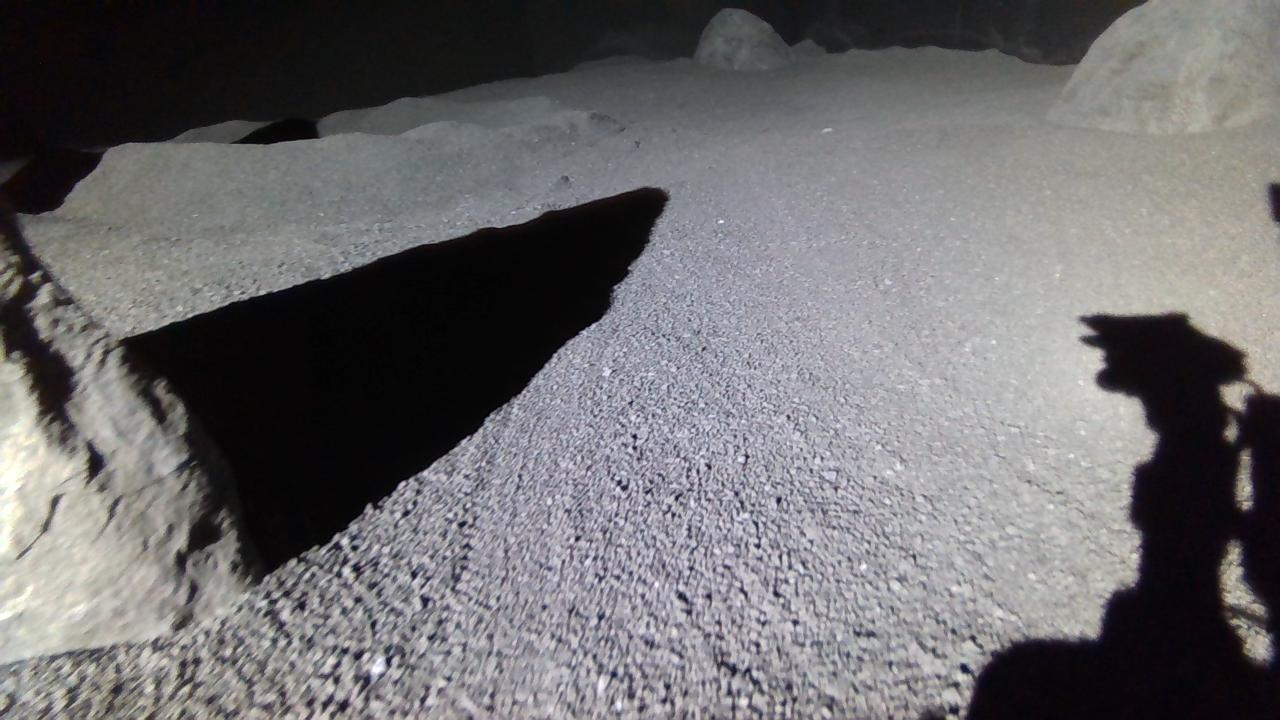rock: (0, 205, 259, 665), (1049, 0, 1280, 133), (695, 7, 795, 69)
